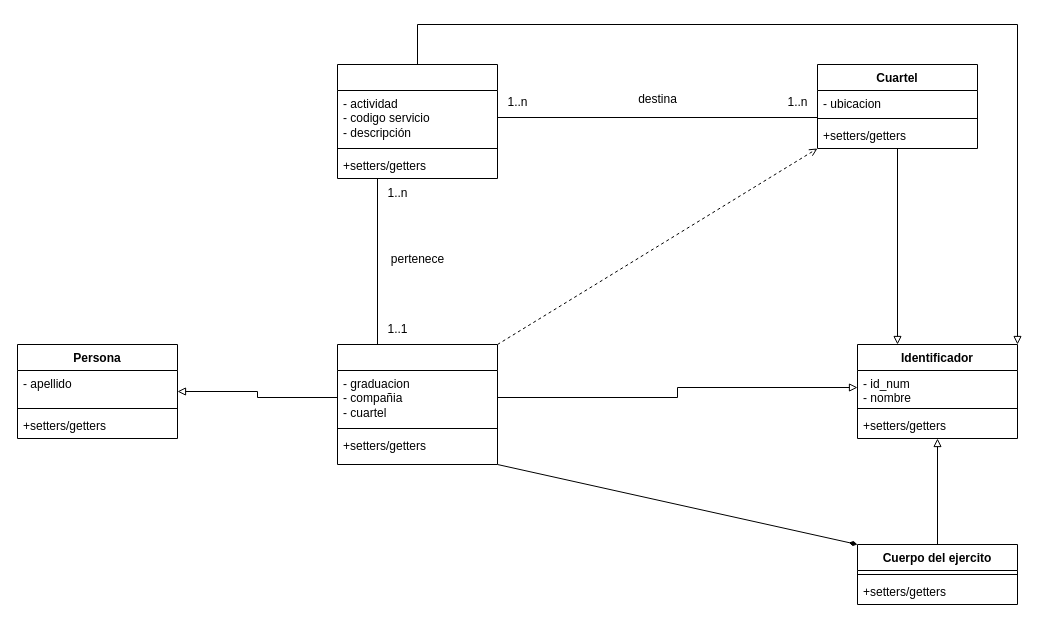
This 1043x625 diagram has some shape labels left out. Each missing label, with the box of its shape:
Compañia: (336, 64, 498, 178)
Soldado: (336, 344, 498, 464)
